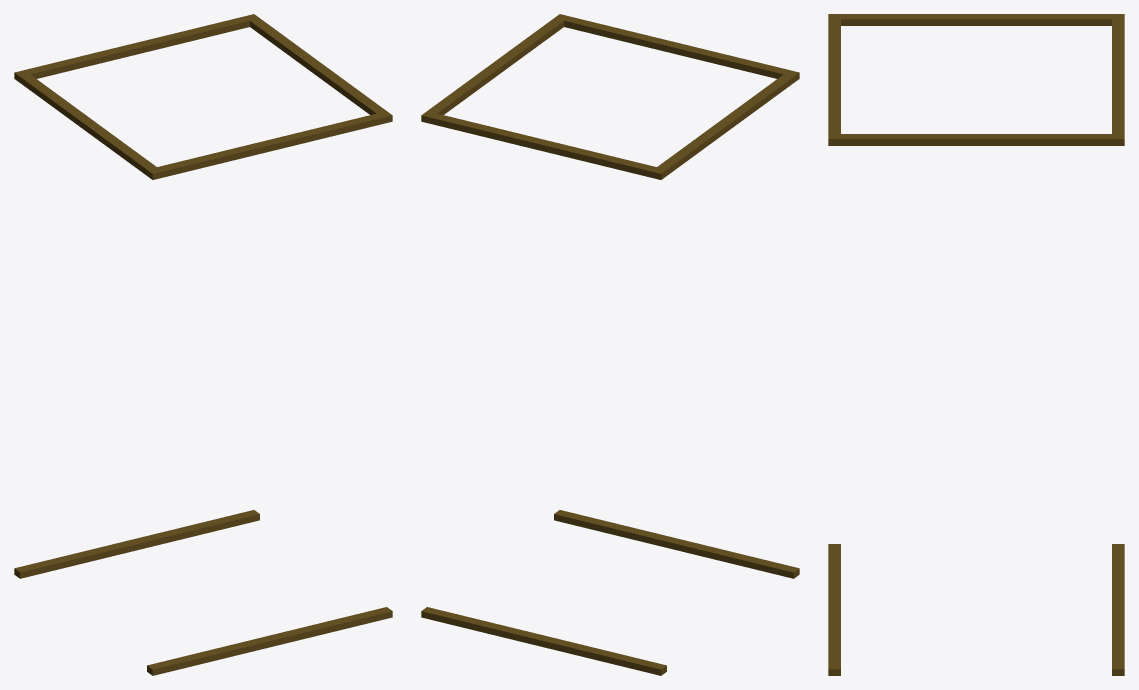
Rendered from frame_mid.glb.
The picture shows the model from 3 angles, left to right: view 1: azimuth 30°, elevation 25°; view 2: azimuth 150°, elevation 25°; view 3: azimuth 270°, elevation 25°; orthographic projection. The views are drawn at different scales.
Parts seen in each view (by area): view 1: Frame_mid; view 2: Frame_mid; view 3: Frame_mid.
Part boxes in pixels (box(x1,y1,x2,y2)): Frame_mid: box(14, 14, 392, 675); Frame_mid: box(421, 14, 799, 675); Frame_mid: box(828, 14, 1124, 675).
Size of the model in its own units: 2 by 4 by 2.
